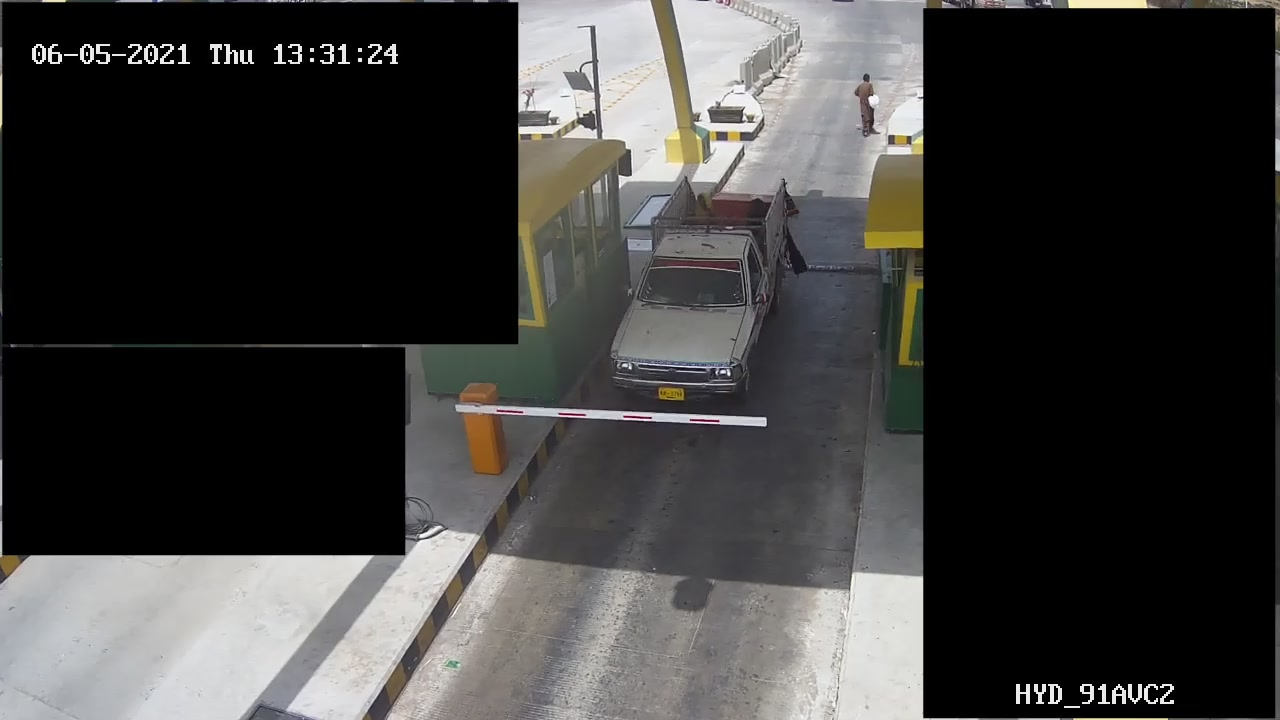F1: (605, 172, 796, 403)
